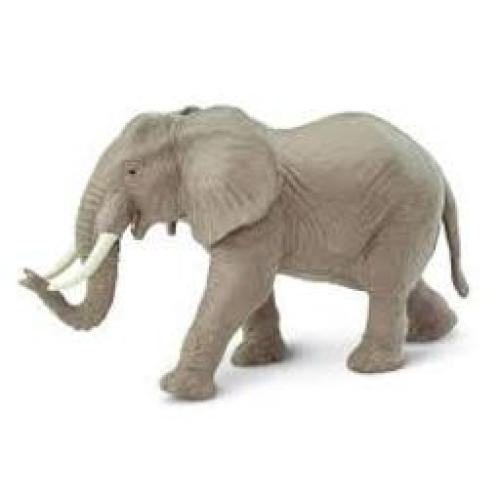african_elephant-endangered: (16, 104, 470, 405)
